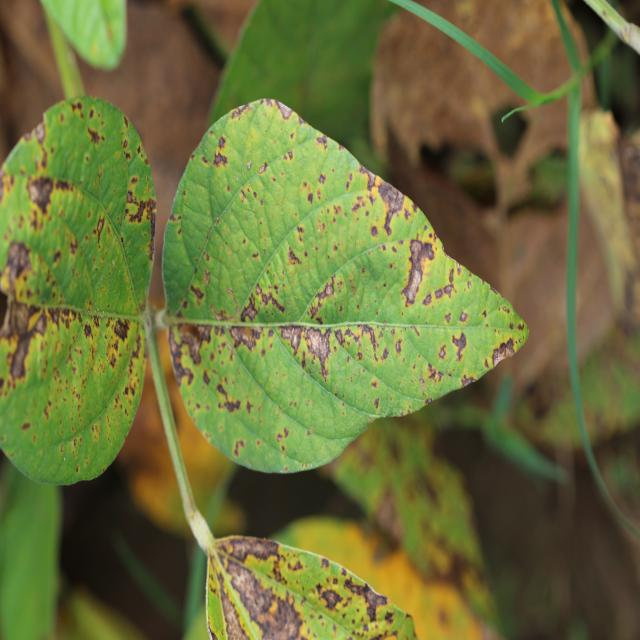Bacterial_Blight: (396, 223, 445, 315), (246, 583, 301, 639), (370, 176, 409, 235), (214, 576, 249, 639), (295, 325, 334, 379), (1, 240, 34, 303), (167, 326, 201, 387), (8, 321, 41, 382), (251, 282, 286, 316), (27, 174, 54, 213), (361, 588, 390, 622), (126, 194, 156, 226), (215, 381, 243, 414), (228, 325, 260, 353), (217, 285, 240, 319), (491, 338, 516, 368), (319, 587, 343, 610), (273, 100, 294, 120), (426, 363, 445, 385), (113, 318, 129, 341), (287, 245, 303, 266), (189, 283, 205, 304), (95, 212, 106, 242), (212, 149, 228, 168), (87, 125, 102, 145), (35, 121, 46, 144), (287, 557, 303, 572), (233, 440, 246, 458), (460, 374, 476, 388), (83, 321, 93, 340), (395, 338, 403, 355), (258, 162, 268, 174), (218, 135, 226, 149), (318, 173, 326, 185), (371, 379, 379, 390), (373, 397, 380, 409), (246, 159, 252, 169), (509, 322, 515, 330), (215, 215, 220, 224), (76, 465, 80, 474)
Soybean: (163, 99, 528, 472), (0, 95, 156, 485)
